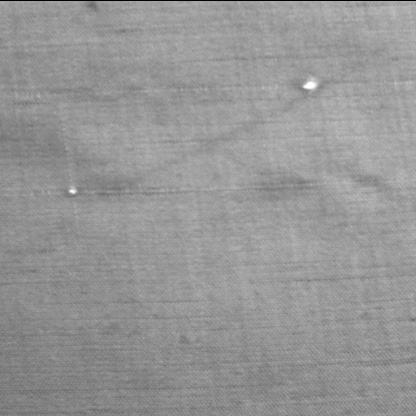hole: (298, 72, 324, 96), (66, 184, 80, 196)
